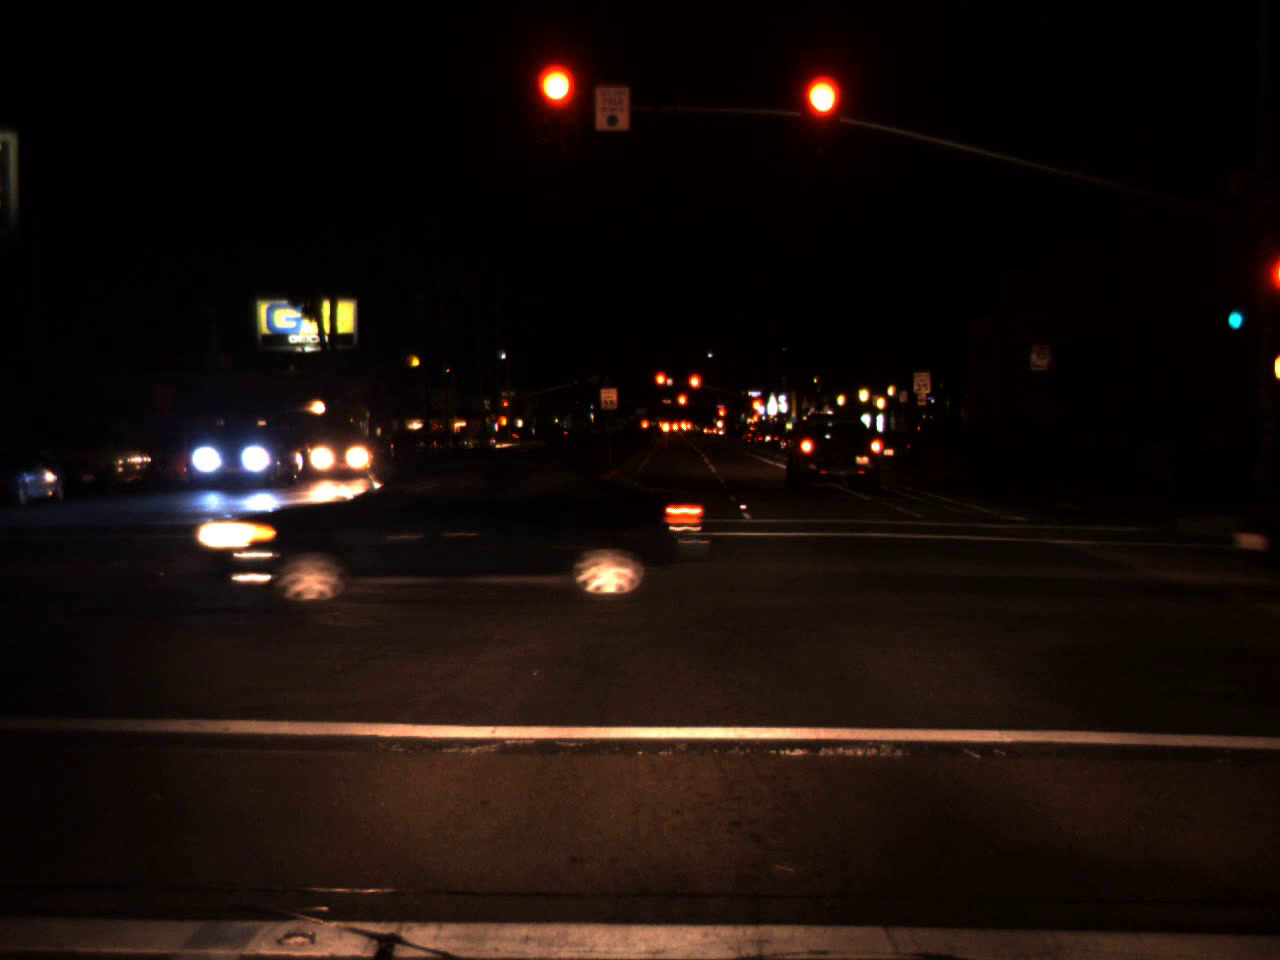stop: (536, 65, 577, 143), (802, 76, 841, 154), (744, 395, 765, 443), (686, 371, 703, 406), (653, 370, 668, 399), (675, 391, 688, 418), (717, 406, 727, 422), (503, 398, 509, 414)
